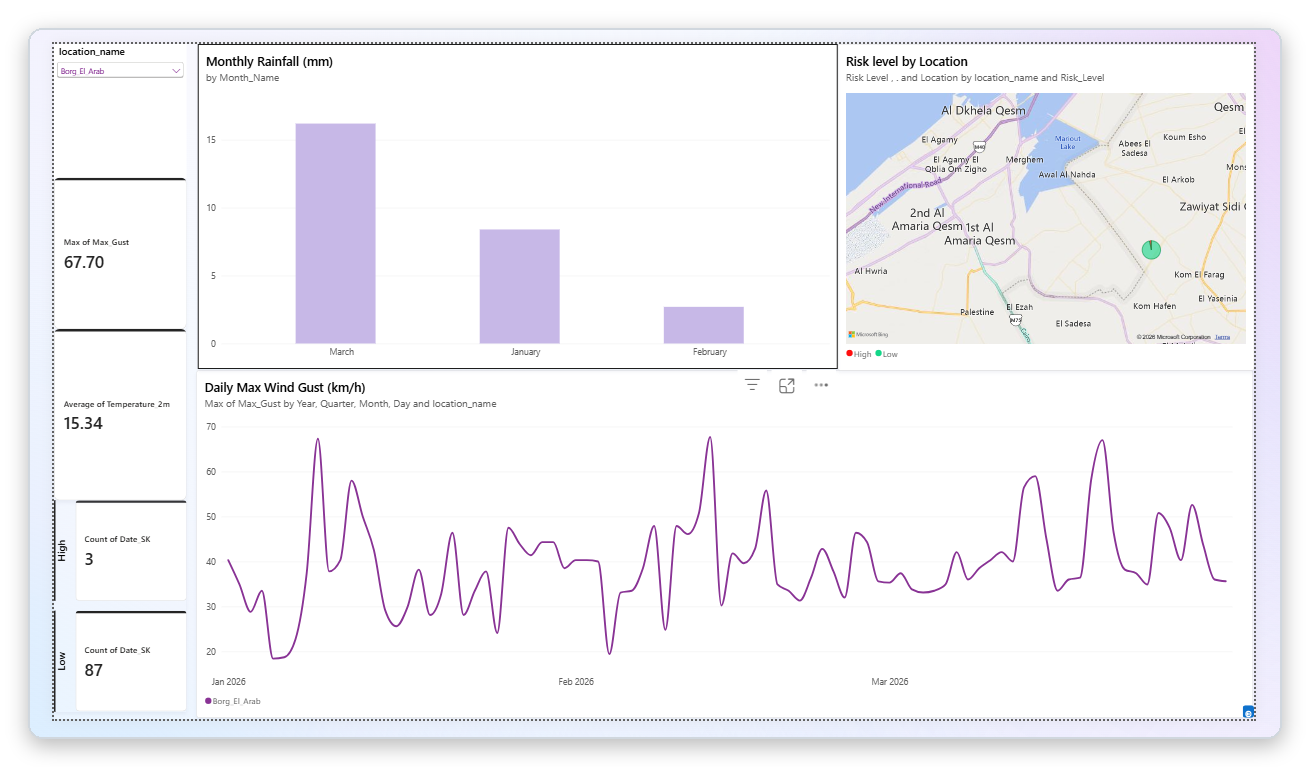

What the dashboard file says about the page in this screenshot:
{"tool":"powerbi","page":{"name":"Page 1","canvas":[1920,1080],"ordinal":0},"visuals":[{"type":"lineChart","title":"Daily Max Wind Gust (km/h)","fields":{"Category":["gold Dim_Date.Full_Date.Variation.Date Hierarchy.Year","gold Dim_Date.Full_Date.Variation.Date Hierarchy.Quarter","gold Dim_Date.Full_Date.Variation.Date Hierarchy.Month","gold Dim_Date.Full_Date.Variation.Date Hierarchy.Day"],"Series":["gold dim_location.location_name"],"Y":["Max(gold Fact_Risk.Max_Gust)"]},"box":[228,522,1690,556],"z":1000},{"type":"slicer","fields":{"Values":["gold dim_location.location_name"]},"box":[0,0,212,214],"z":2000},{"type":"map","title":"Risk level by Location","fields":{"Category":["gold dim_location.location_name"],"Series":["gold Fact_Risk.Risk_Level"],"Size":["CountNonNull(gold Fact_Risk.Date_SK)"],"X":["Avg(gold dim_location.longitude)"],"Y":["Avg(gold dim_location.latitude)"]},"box":[1254,0,666,522],"z":3000},{"type":"cardVisual","title":"Max Wind Gust (km/h)","fields":{"Data":["Max(gold Fact_Risk.Max_Gust)"]},"box":[0,214,212,242],"z":4000},{"type":"cardVisual","fields":{"Data":["CountNonNull(gold Fact_Risk.Date_SK)"],"Rows":["gold Fact_Risk.Risk_Level"]},"box":[0,730,212,338],"z":5000},{"type":"cardVisual","fields":{"Data":["Avg(gold Fact_Weather_Hourly.Temperature_2m)"]},"box":[0,456,212,274],"z":6000},{"type":"clusteredColumnChart","fields":{"Category":["gold Dim_Date.Month_Name"],"Y":["Sum(gold Fact_Weather_Hourly.Precipitation)"]},"box":[230,0,1024,520],"z":7000},{"type":"actionButton","box":[1902,1058,18,20],"z":7001}]}

Visuals, with their boxes on the page's 1920x1080 design canvas (x1, y1, x2, y2). These are canvas units, not pixel positions in the 1310x767 screenshot, which may show the page scaled, cropped or inside an application window:
"Daily Max Wind Gust (km/h)" lineChart: <box>228,522,1918,1078</box>
slicer - gold dim_location.location_name: <box>0,0,212,214</box>
"Risk level by Location" map: <box>1254,0,1920,522</box>
"Max Wind Gust (km/h)" cardVisual: <box>0,214,212,456</box>
cardVisual - CountNonNull(gold Fact_Risk.Date_SK) x gold Fact_Risk.Risk_Level: <box>0,730,212,1068</box>
cardVisual - Avg(gold Fact_Weather_Hourly.Temperature_2m): <box>0,456,212,730</box>
clusteredColumnChart - gold Dim_Date.Month_Name x Sum(gold Fact_Weather_Hourly.Precipitation): <box>230,0,1254,520</box>
actionButton: <box>1902,1058,1920,1078</box>
